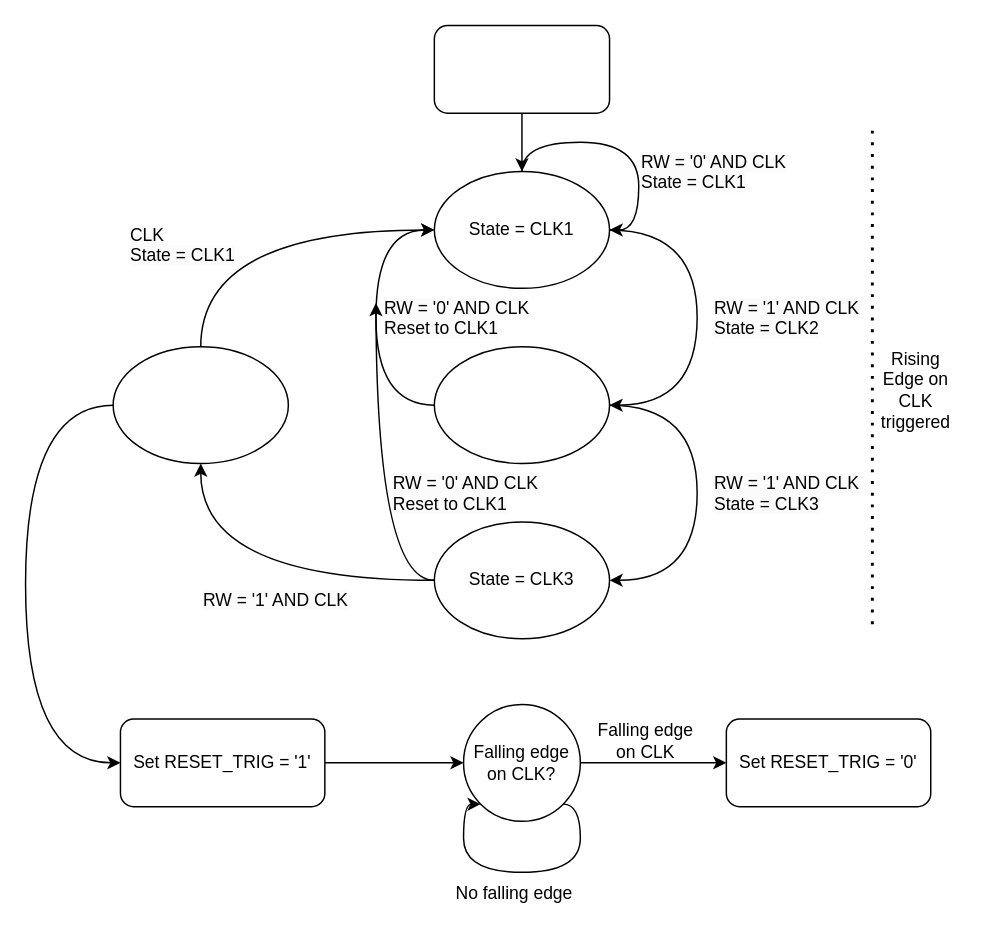
This 986x942 diagram has some shape labels left out. The shapes that lost their labels are listed below. From the top down, each one's centre as x and y in pixels, then its label:
(521,68): Initial State = CLK1
(200,404): Reset Triggered
(521,404): State = CLK2
